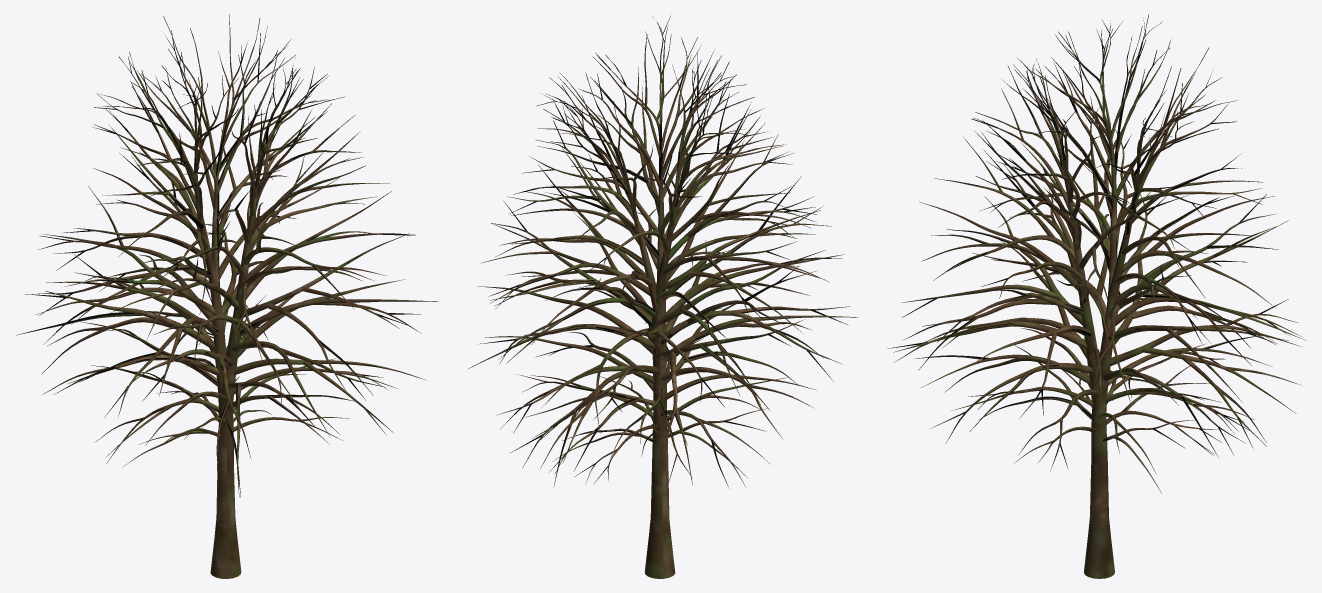
Rendered from tree.glb.
The picture shows the model from 3 angles, left to right: view 1: azimuth 30°, elevation 25°; view 2: azimuth 150°, elevation 25°; view 3: azimuth 270°, elevation 25°; orthographic projection.
Visible parts, largest first — view 1: tree_mesh; view 2: tree_mesh; view 3: tree_mesh.
Part boxes in pixels (x1,y1,x2,y2): tree_mesh: (16, 14, 438, 578); tree_mesh: (467, 16, 858, 578); tree_mesh: (887, 14, 1306, 578).
Bounding box in the file's own units: 3.45 × 5 × 3.58.
1 material, 1 textured.
